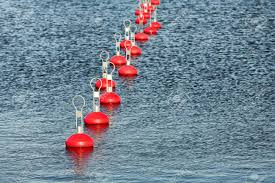buoy: (65, 134, 95, 148), (85, 113, 109, 126), (96, 78, 116, 89), (118, 65, 138, 76), (100, 93, 121, 103), (110, 55, 127, 66), (119, 40, 134, 49), (150, 21, 162, 30), (134, 32, 147, 40), (130, 46, 142, 54), (136, 16, 147, 24), (145, 26, 156, 33)
